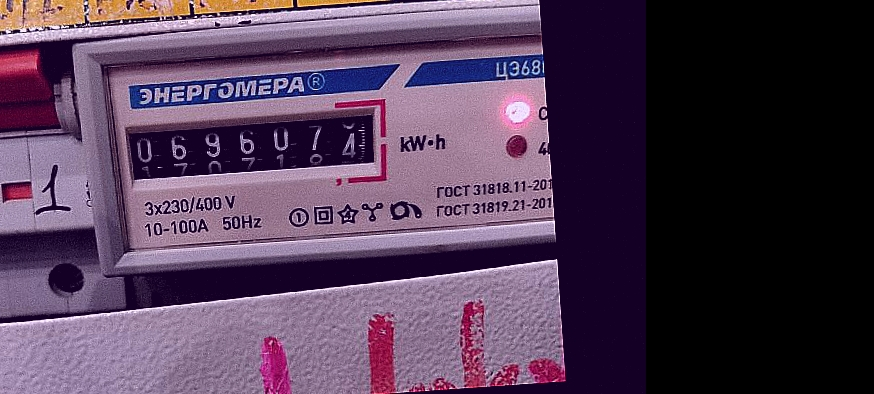0: (134, 133, 155, 163), (269, 122, 290, 151)
4: (338, 130, 358, 159)
6: (236, 125, 256, 154), (168, 132, 187, 160)
7: (304, 120, 325, 151)
9: (202, 129, 221, 158)
screen: (111, 93, 395, 199)
